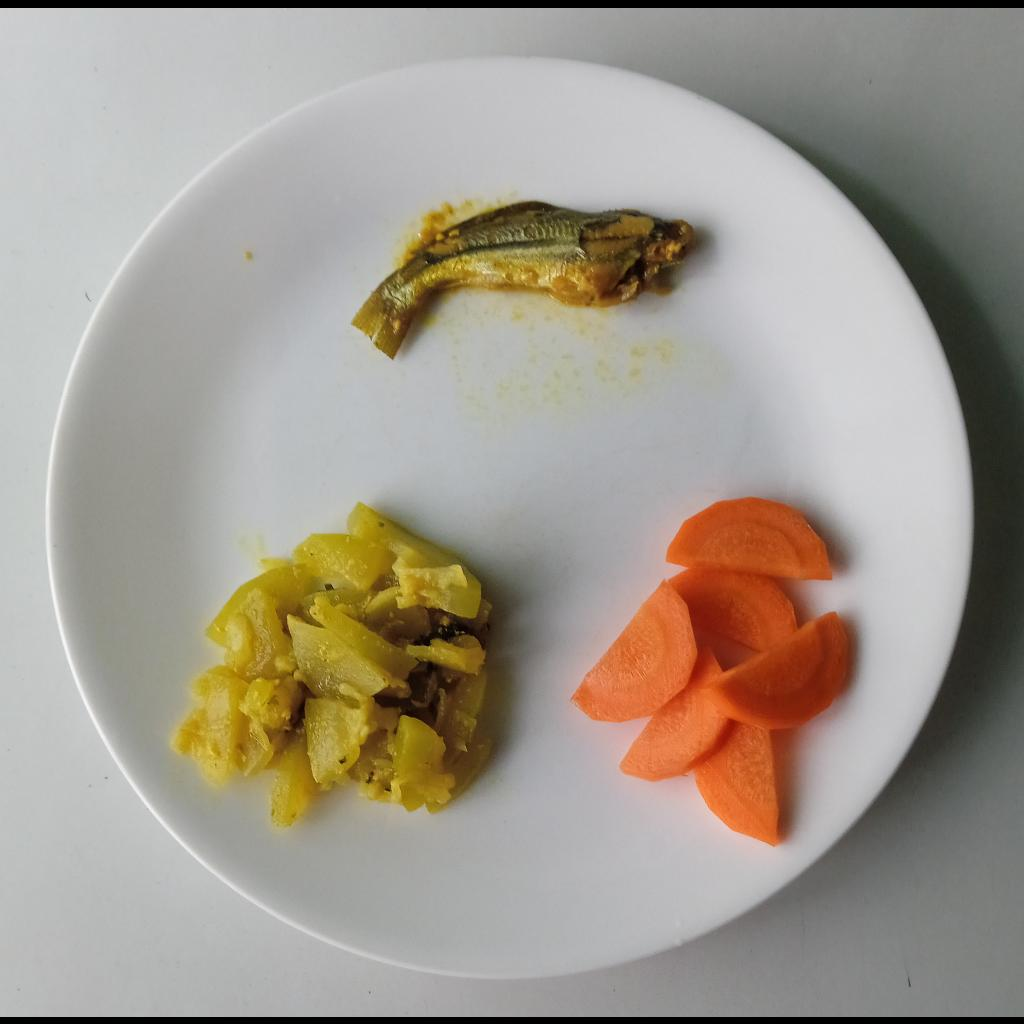carrot: (566, 490, 861, 852)
fish: (355, 198, 706, 359)
lau: (147, 497, 495, 842)
